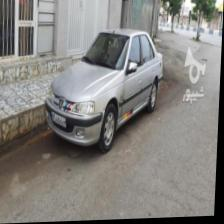plate: (50, 109, 68, 128)
